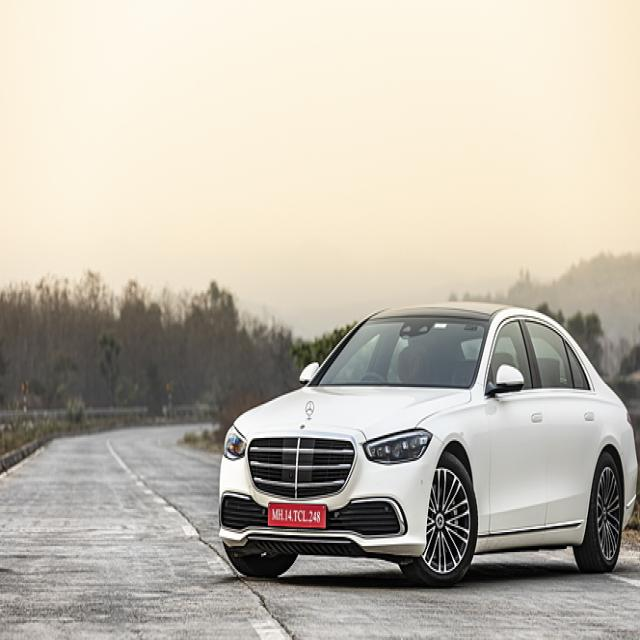car: (218, 303, 635, 581)
